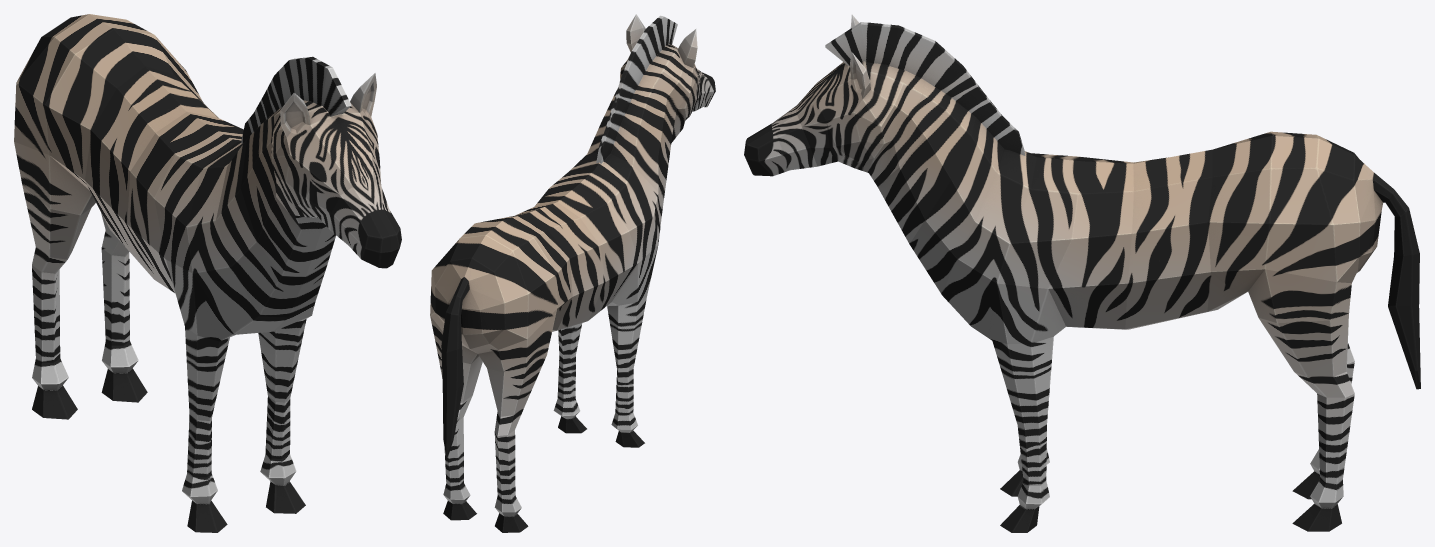
The picture shows the model from 3 angles, left to right: view 1: azimuth 30°, elevation 25°; view 2: azimuth 150°, elevation 25°; view 3: azimuth 270°, elevation 25°; orthographic projection. The views are drawn at different scales.
Visible parts, largest first — view 1: Zebra_mesh; view 2: Zebra_mesh; view 3: Zebra_mesh.
Part boxes in pixels (x1,y1,x2,y2): Zebra_mesh: (14, 14, 401, 532); Zebra_mesh: (430, 14, 715, 532); Zebra_mesh: (744, 14, 1420, 532).
Bounding box in the file's own units: 3.49 × 12 × 15.2.
Materials: 1 (1 with a texture image).
